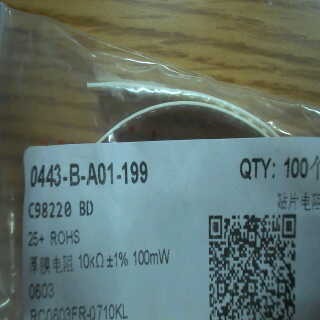10kR: (74, 248, 111, 275)
